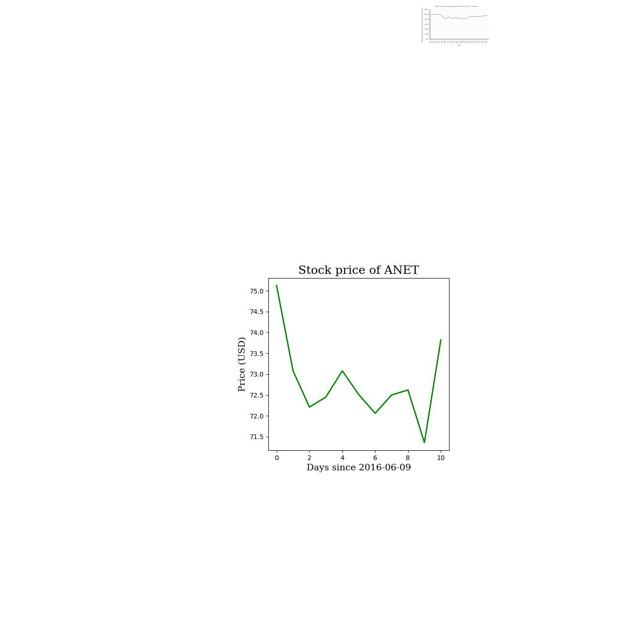Graph: (206, 251, 504, 475), (420, 4, 489, 47)
